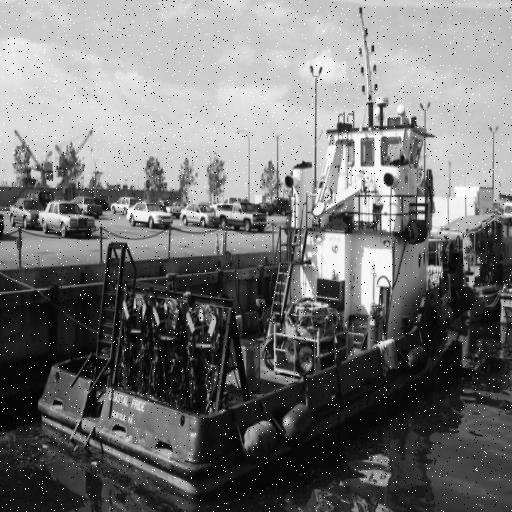tugboat: (35, 63, 476, 512)
